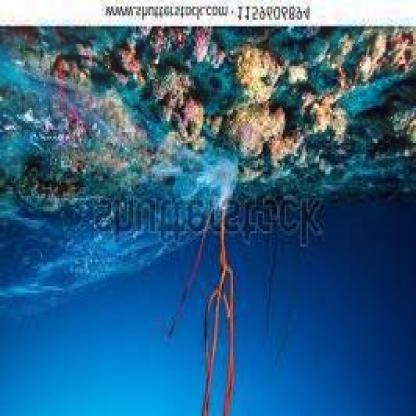pbag: (2, 40, 247, 328)
